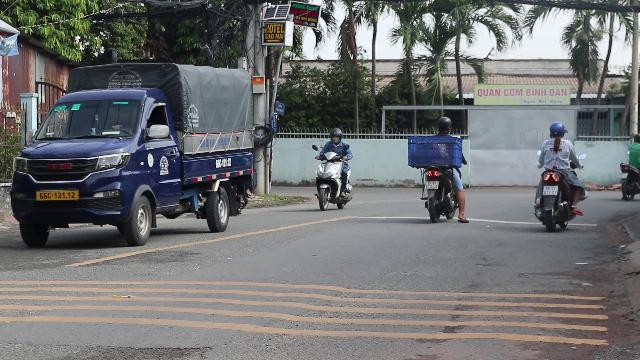helmet: (548, 122, 566, 138), (436, 116, 452, 132)
licenseplate: (542, 187, 558, 195), (426, 180, 438, 188)
motorcyclist: (407, 115, 469, 221), (530, 121, 586, 231)
